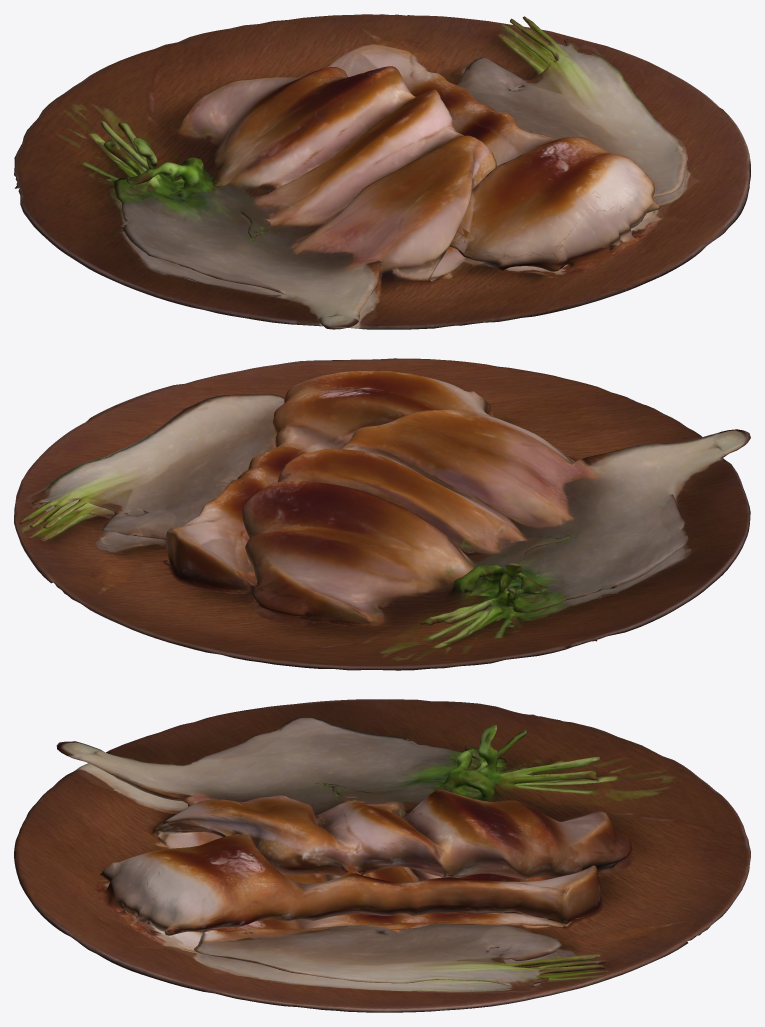
The model's file is peking_duck.glb.
3 views of the same model, one above another, from view 1: azimuth 30°, elevation 25°; view 2: azimuth 150°, elevation 25°; view 3: azimuth 270°, elevation 25° (orthographic).
Visible parts, largest first — view 1: Object_4; view 2: Object_4; view 3: Object_4.
Boxes of the visible parts, bbox=[...] form: Object_4: bbox=[14, 14, 750, 329]; Object_4: bbox=[14, 358, 750, 670]; Object_4: bbox=[14, 699, 750, 1012].
Bounding box in the file's own units: 1.99 × 0.2128 × 1.99.
Materials: 1 (1 with a texture image).
